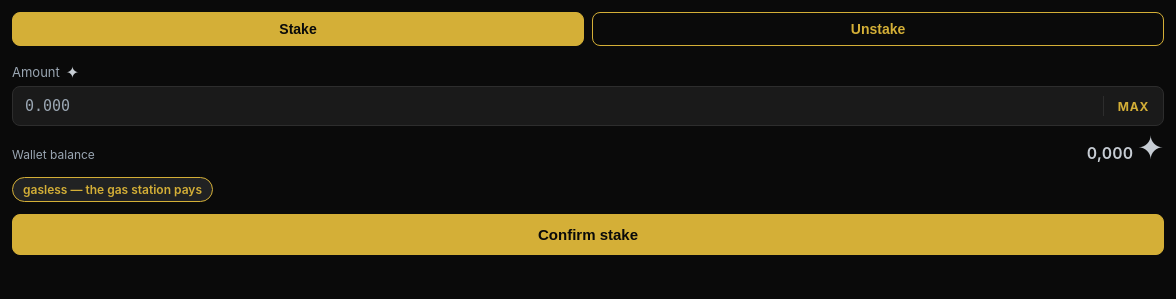
Test: StakeUnstakeUrStoaModal — last-staker floor (REQ-21) › unstake max is userStaked - 1.0 when the user is the sole staker
Click the button with test id "stake-mode-unstake" at (878, 29), box [592, 12, 1164, 46]
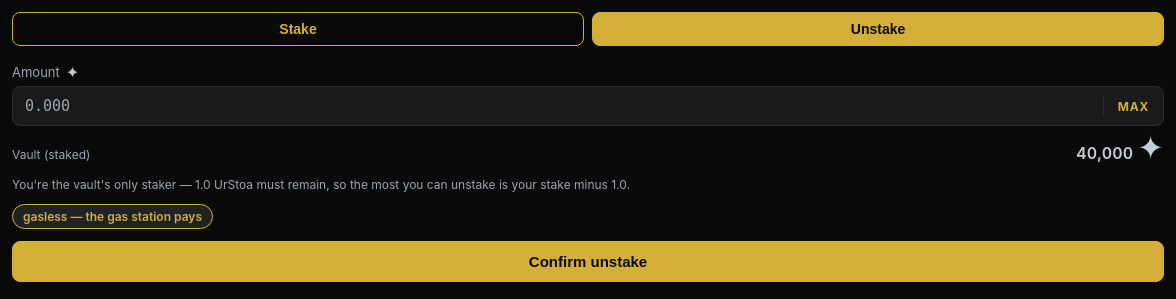
Click the button with test id "stake-max" at (1133, 106), box [1104, 87, 1163, 125]
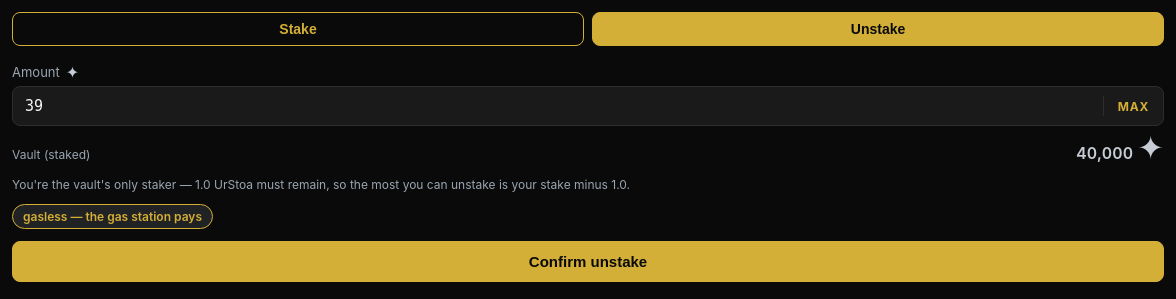
expect the text with test id "stake-floor-note" is shown: met, box [12, 177, 630, 192]
expect the field with test id "stake-amount" holds "39": met, box [13, 87, 1103, 125]
